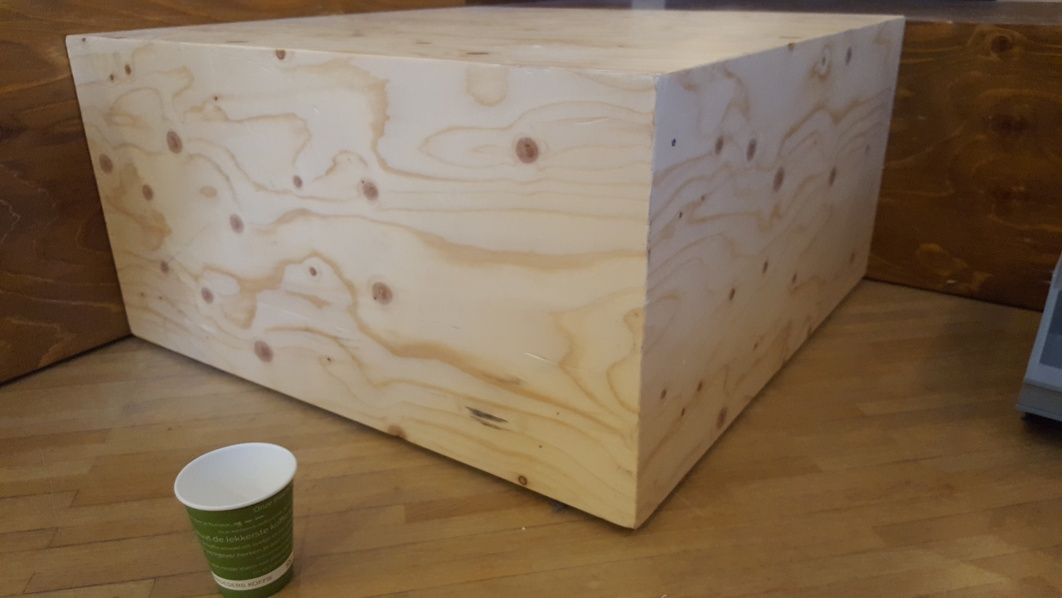cup: (172, 442, 299, 594)
